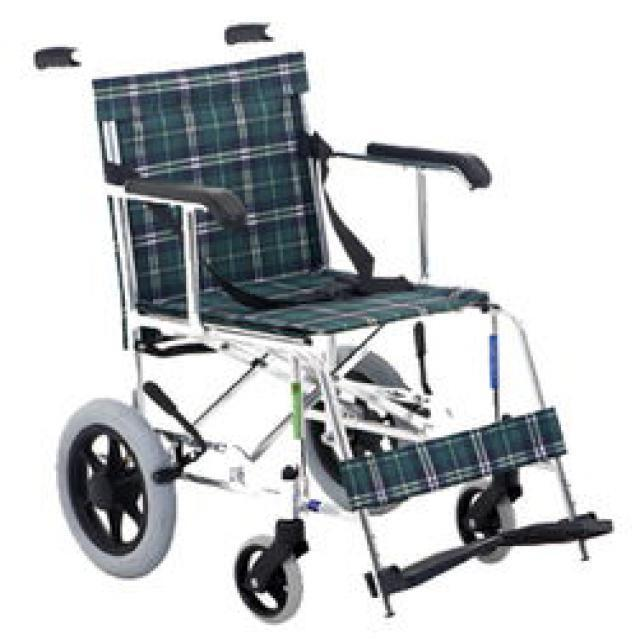wheelchairs: (35, 25, 612, 612)
